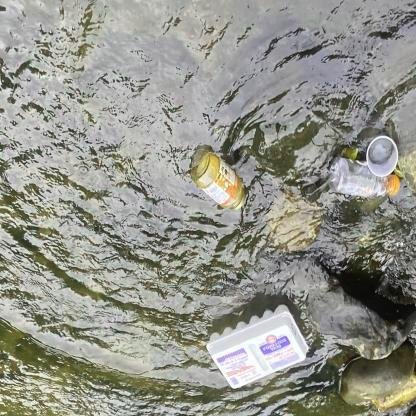Glass: (186, 145, 252, 214)
Plastic: (203, 297, 314, 393), (324, 134, 409, 206)
